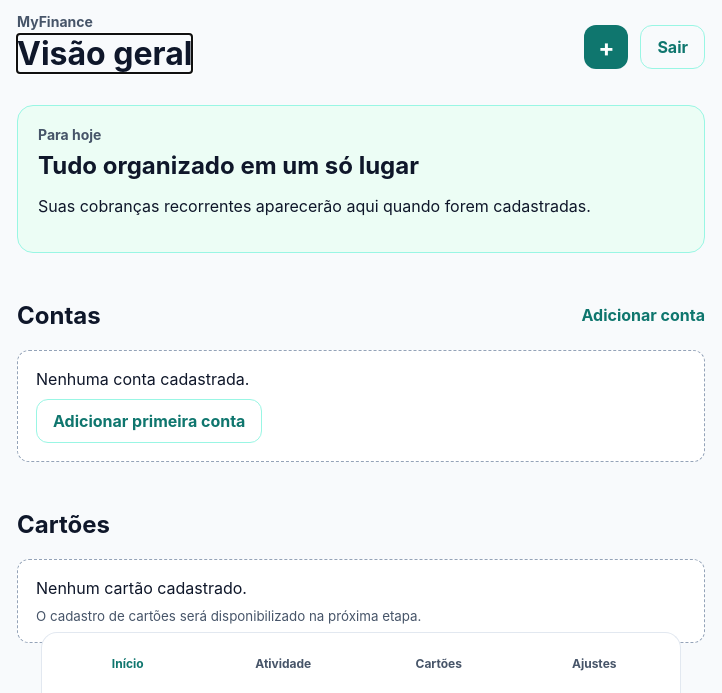
Test: App › ends the authenticated session and returns to sign-in
Click the button "Sair" at (673, 47), box [640,25,705,69]
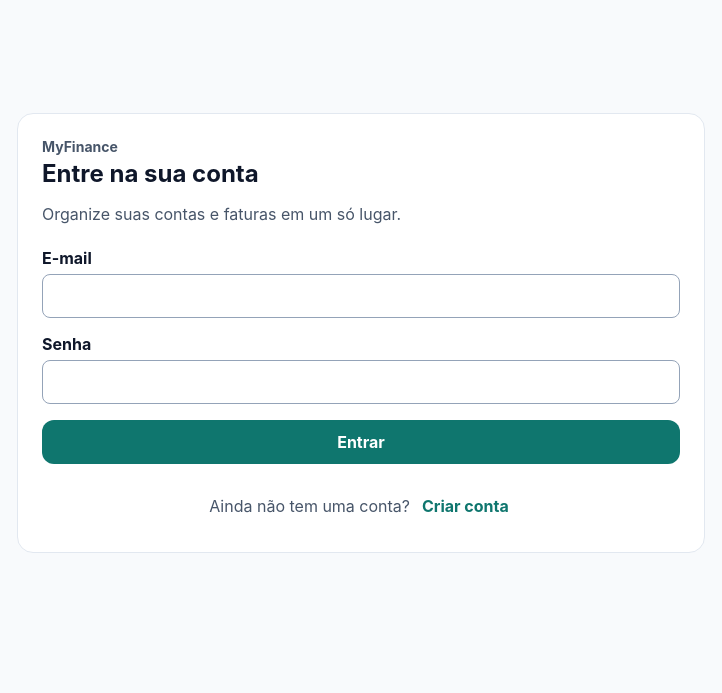
Now the heading "Entre na sua conta" is shown, box [42,159,259,188]
